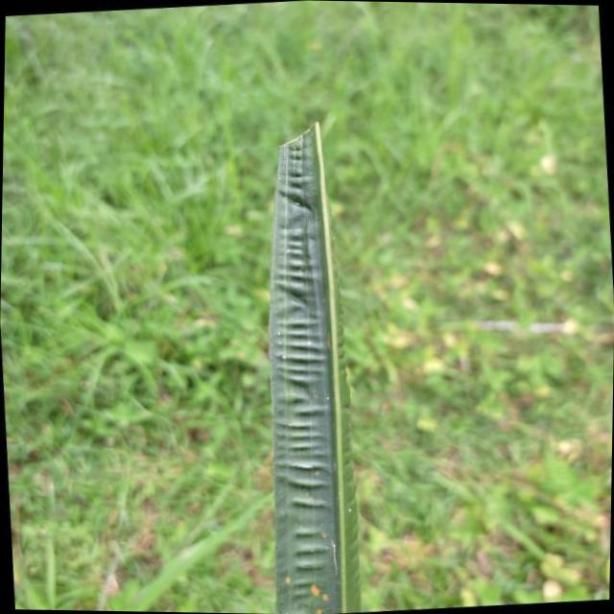Boron: (269, 115, 366, 614)
